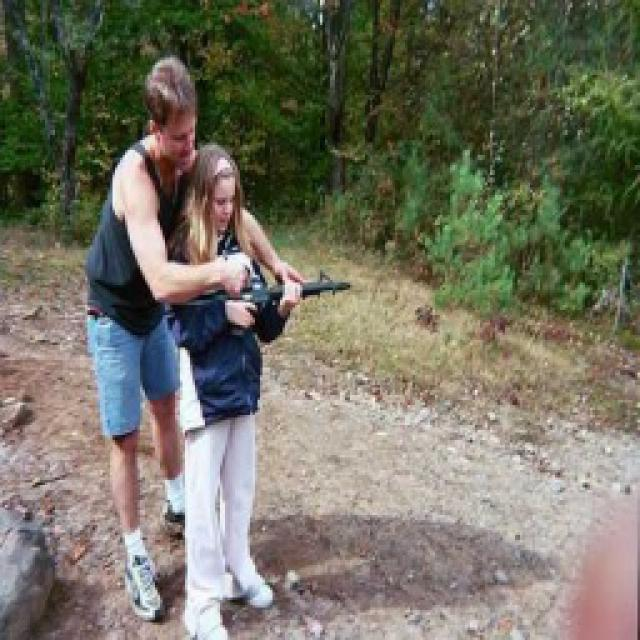long weapon: (200, 271, 354, 333)
